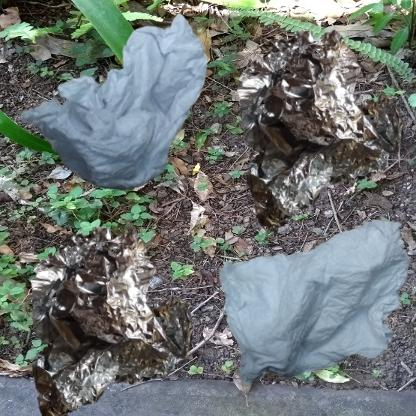aluminio: (213, 10, 416, 249), (10, 213, 211, 416)
papel: (10, 10, 226, 206), (213, 213, 416, 396)
